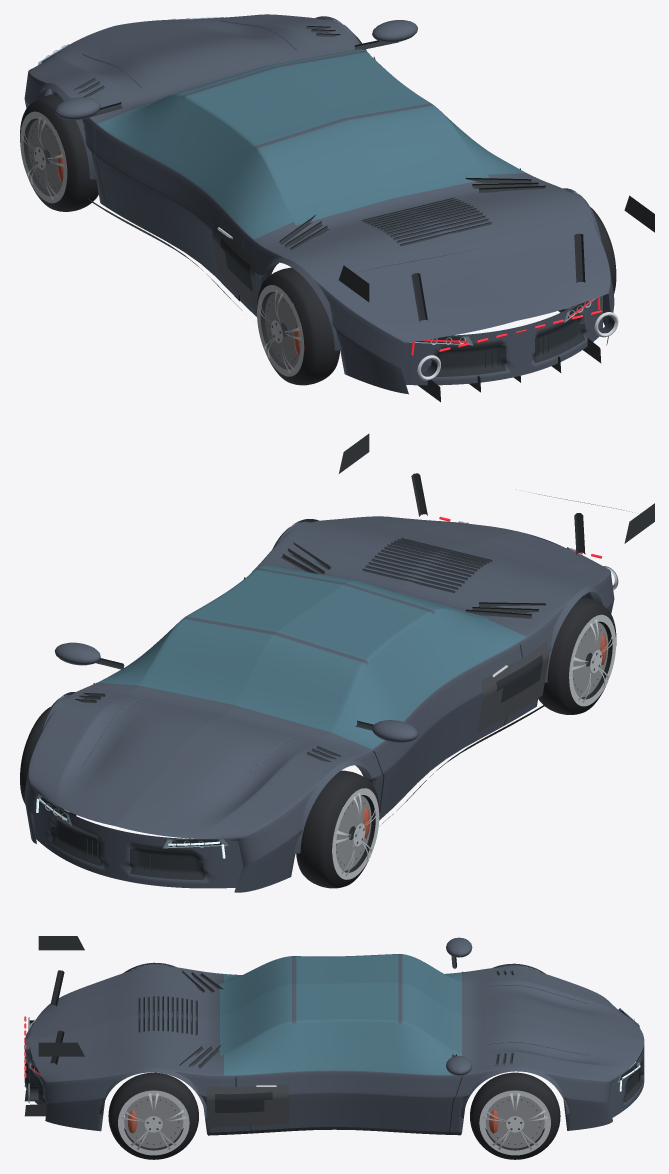
File: phantom_x.glb
3 views of the same model, one above another, from view 1: azimuth 30°, elevation 25°; view 2: azimuth 150°, elevation 25°; view 3: azimuth 270°, elevation 25° (orthographic). The views are drawn at different scales.
Parts seen in each view (by area): view 1: Body, Wheel_2, Wheel_0, Wheel_3; view 2: Body, Wheel_0, Wheel_2, Wheel_1; view 3: Body, Wheel_1, Wheel_3.
Boxes of the visible parts, x1,y1,x2,y2 form: Body: [24, 14, 654, 402]; Wheel_2: [256, 267, 339, 385]; Wheel_0: [20, 94, 98, 211]; Wheel_3: [558, 207, 616, 312]; Body: [24, 433, 654, 892]; Wheel_0: [296, 770, 379, 888]; Wheel_2: [538, 597, 616, 714]; Wheel_1: [20, 707, 76, 815]; Body: [24, 936, 644, 1135]; Wheel_1: [470, 1072, 560, 1159]; Wheel_3: [108, 1072, 198, 1159].
Bounding box in the file's own units: 2.52 × 1.08 × 5.09.
